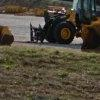Tractor: (31, 2, 100, 68)
